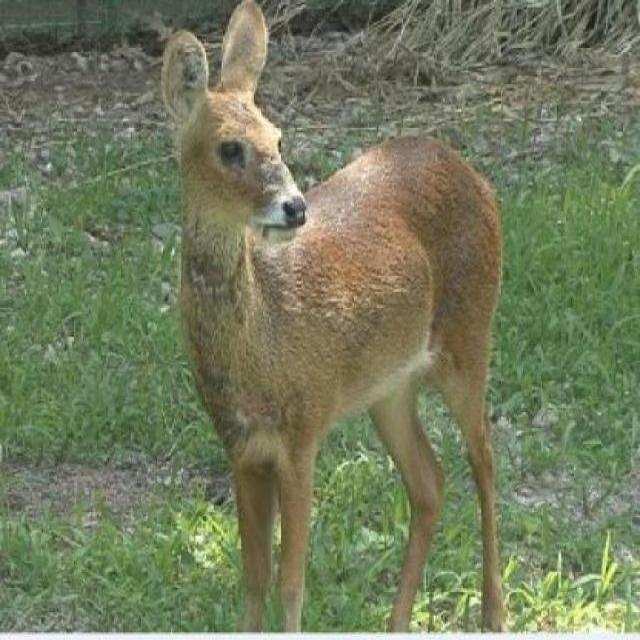deer: (155, 0, 512, 632)
